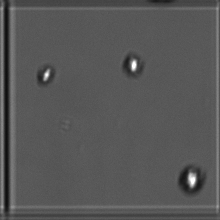Living Cell: (175, 159, 208, 198), (119, 49, 151, 83), (32, 60, 64, 88)
